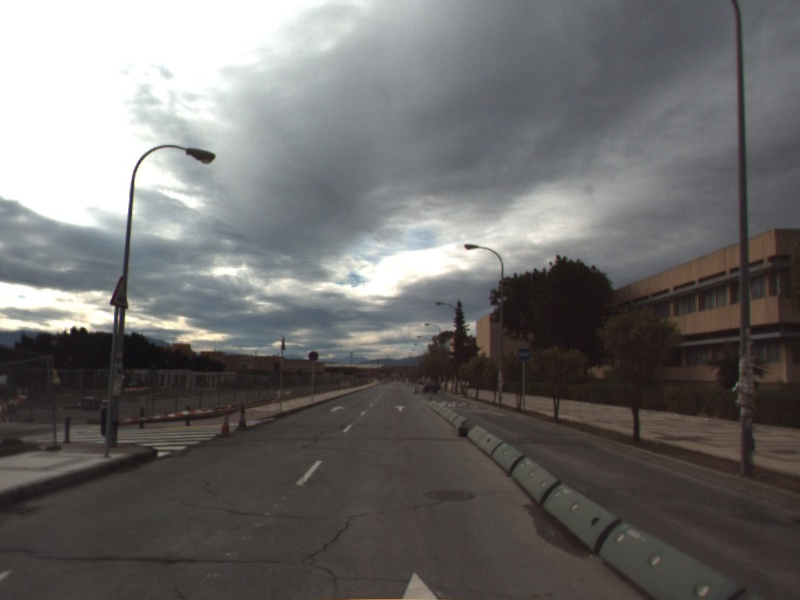STRAIGHT: (328, 403, 346, 414), (392, 403, 409, 413)
